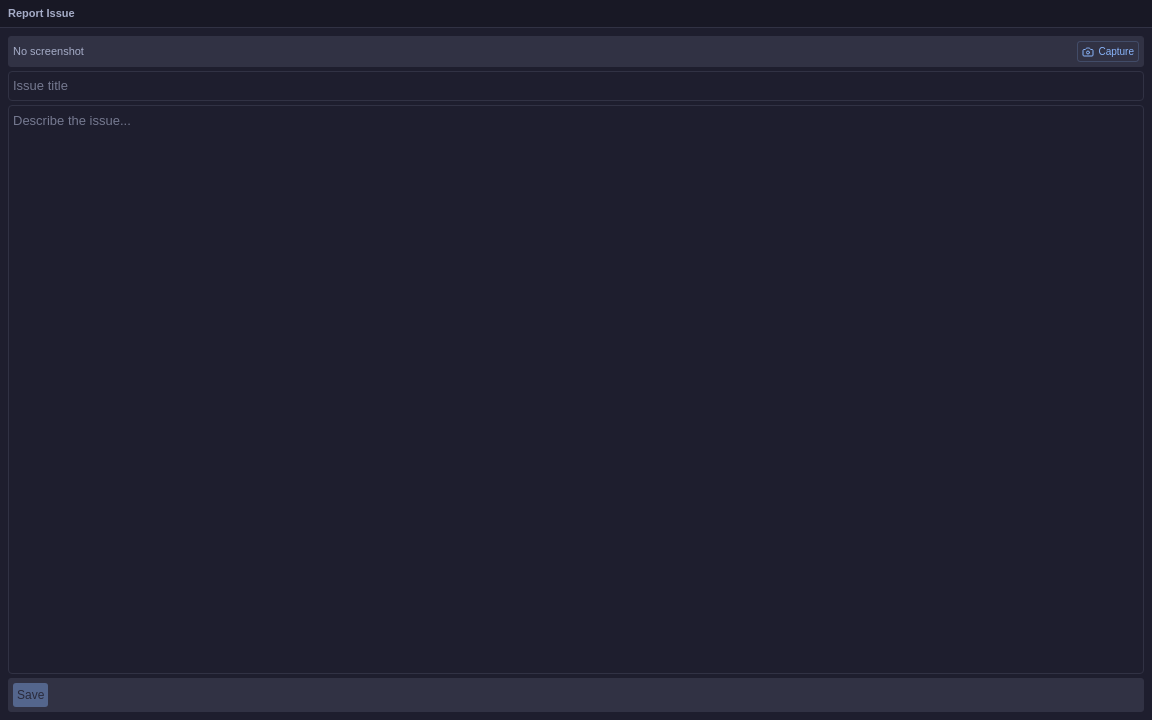
Test: IssueReporterView › disables submit button during submission
Type "Test issue" into the field with test id "issue-title". click: (576, 86)
box: x1=8 y1=71 x2=1144 y2=100
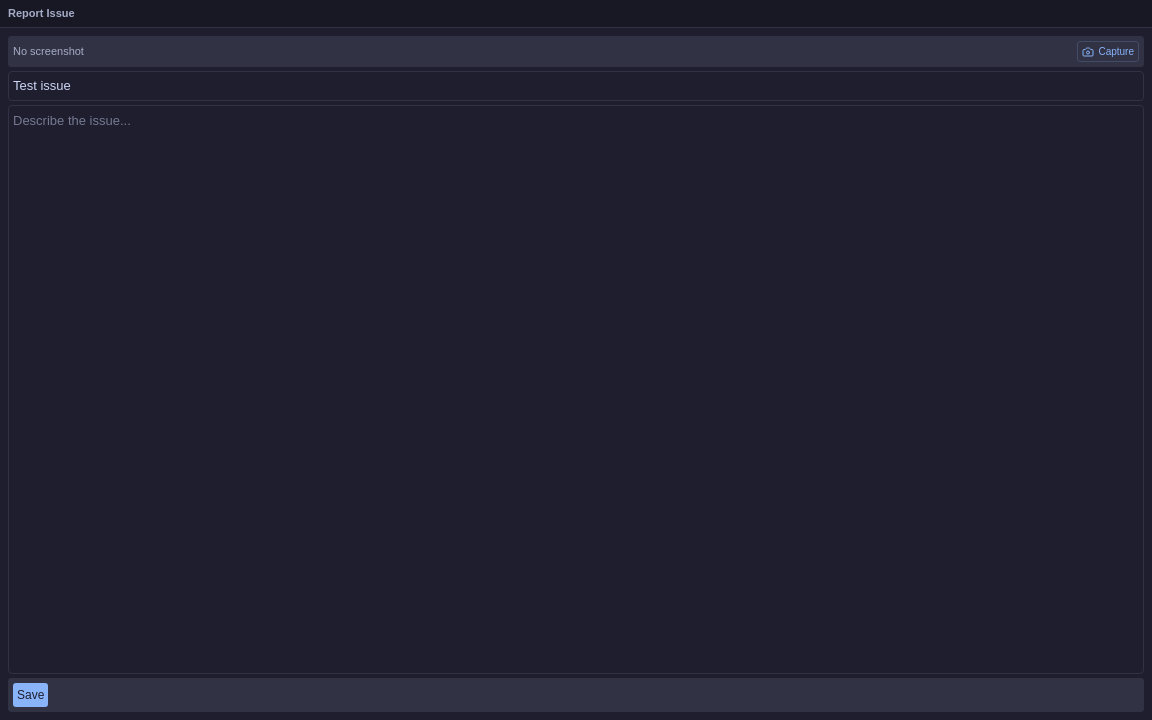
Click the button with test id "issue-submit". click: (31, 695)
box: x1=13 y1=683 x2=48 y2=707
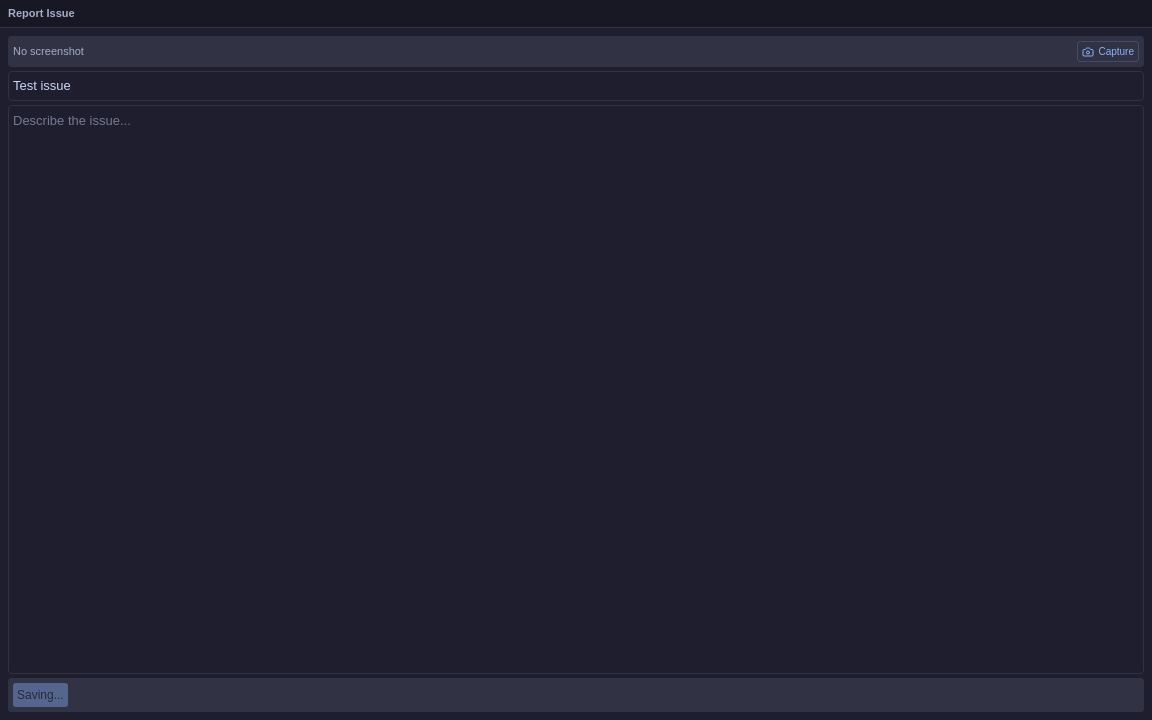
Expected: the button with test id "issue-submit" is disabled, x1=13 y1=683 x2=68 y2=707
